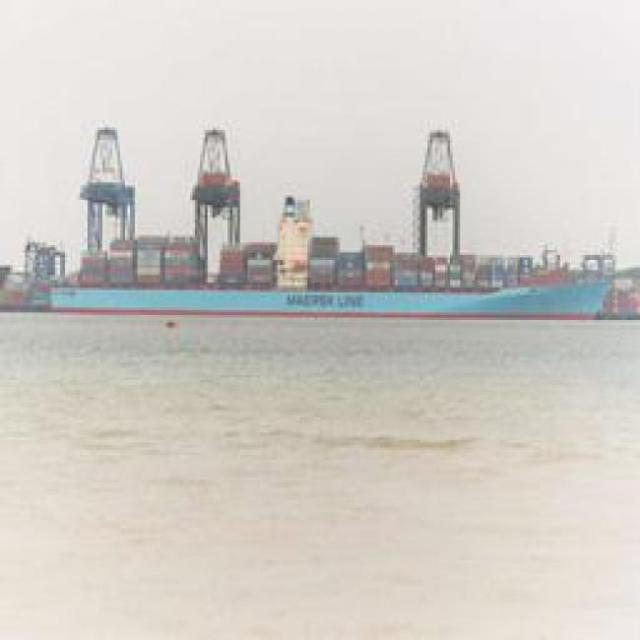boat: (2, 218, 606, 330)
